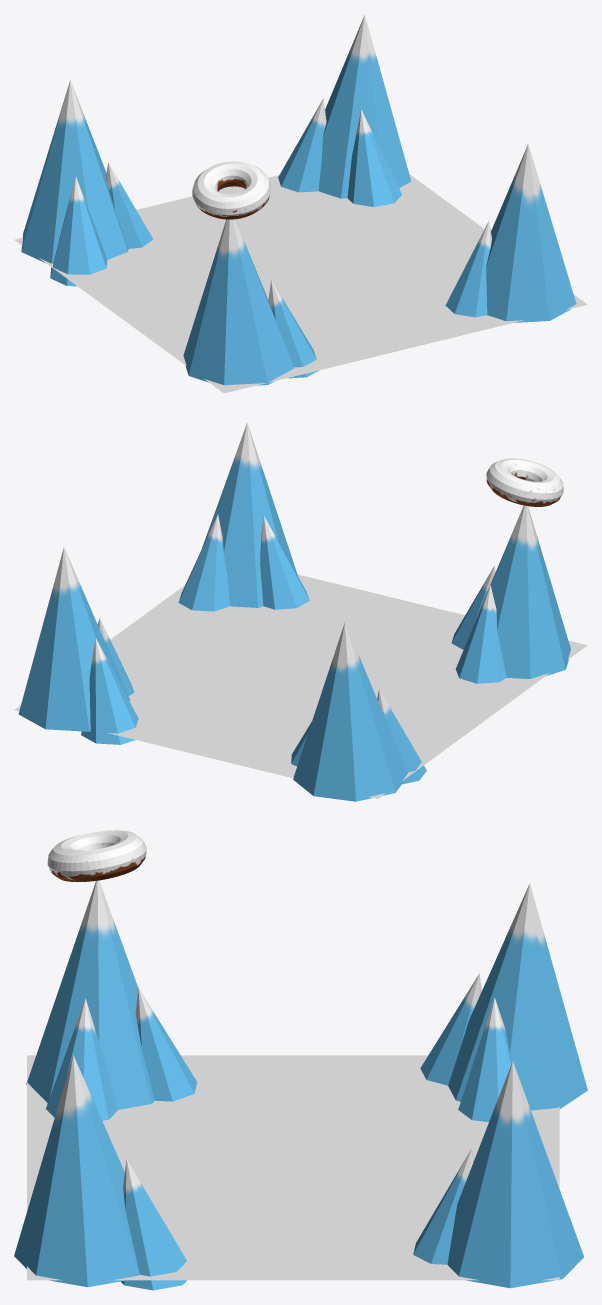
Rendered from okrujenie.fbx.
3 renders of one model, top to bottom at view 1: azimuth 30°, elevation 25°; view 2: azimuth 150°, elevation 25°; view 3: azimuth 270°, elevation 25°, orthographic. The views are drawn at different scales.
Visible parts, largest first — view 1: Plane, Cone, Cone.005, Cone.011, Cone.006, Torus, Cone.010, Cone.008, Cone.007, Cone.003, Cone.001, Cone.009; view 2: Plane, Cone.011, Cone.006, Cone, Cone.005, Cone.007, Torus, Cone.004, Cone.002, Cone.003, Cone.010, Cone.001 (+1 smaller); view 3: Plane, Cone.006, Cone.005, Cone.011, Cone, Cone.004, Torus, Cone.009, Cone.002, Cone.001, Cone.008, Cone.010.
Part boxes in pixels (x1,y1,x2,y2): Plane: [14, 174, 587, 393]; Cone: [183, 219, 294, 385]; Cone.005: [486, 144, 576, 322]; Cone.011: [21, 80, 128, 263]; Cone.006: [318, 15, 411, 198]; Torus: [192, 161, 271, 219]; Cone.010: [50, 176, 107, 286]; Cone.008: [347, 109, 401, 206]; Cone.007: [278, 98, 326, 192]; Cone.003: [445, 221, 491, 317]; Cone.001: [268, 280, 318, 378]; Cone.009: [105, 162, 153, 248]; Plane: [14, 574, 587, 798]; Cone.011: [293, 622, 407, 801]; Cone.006: [18, 547, 129, 731]; Cone: [480, 505, 570, 678]; Cone.005: [202, 423, 297, 607]; Cone.007: [81, 637, 138, 744]; Torus: [486, 458, 563, 506]; Cone.004: [178, 514, 229, 611]; Cone.002: [455, 585, 506, 683]; Cone.003: [260, 516, 309, 609]; Cone.010: [377, 689, 426, 784]; Cone.001: [451, 566, 495, 649]; Plane: [27, 1055, 559, 1280]; Cone.006: [447, 1061, 583, 1288]; Cone.005: [14, 1055, 139, 1287]; Cone.011: [448, 883, 587, 1110]; Cone: [26, 880, 154, 1109]; Cone.004: [121, 1159, 186, 1290]; Torus: [47, 830, 146, 882]; Cone.009: [458, 997, 512, 1121]; Cone.002: [135, 987, 197, 1101]; Cone.001: [46, 998, 118, 1120]; Cone.008: [413, 1148, 473, 1264]; Cone.010: [420, 973, 481, 1085].
Bounding box in the file's own units: 4379 × 2210 × 4525.
